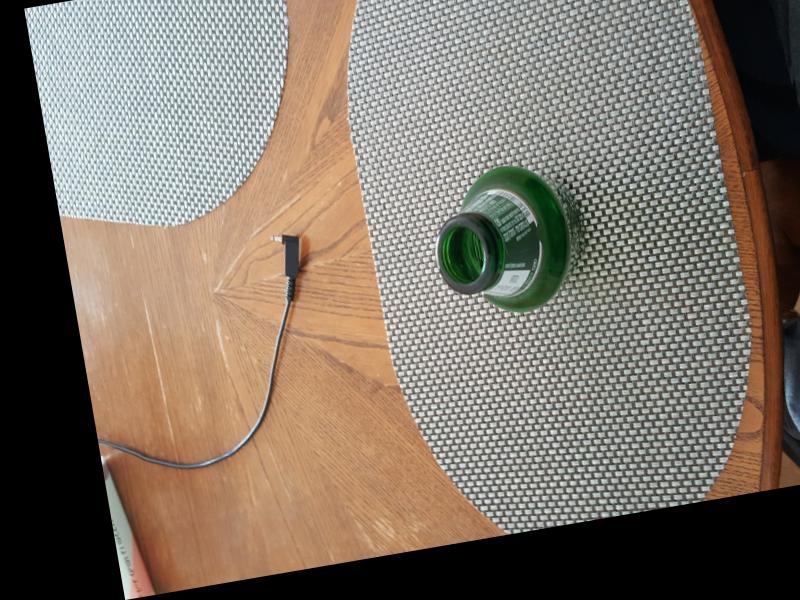Beer: (426, 161, 593, 316)
